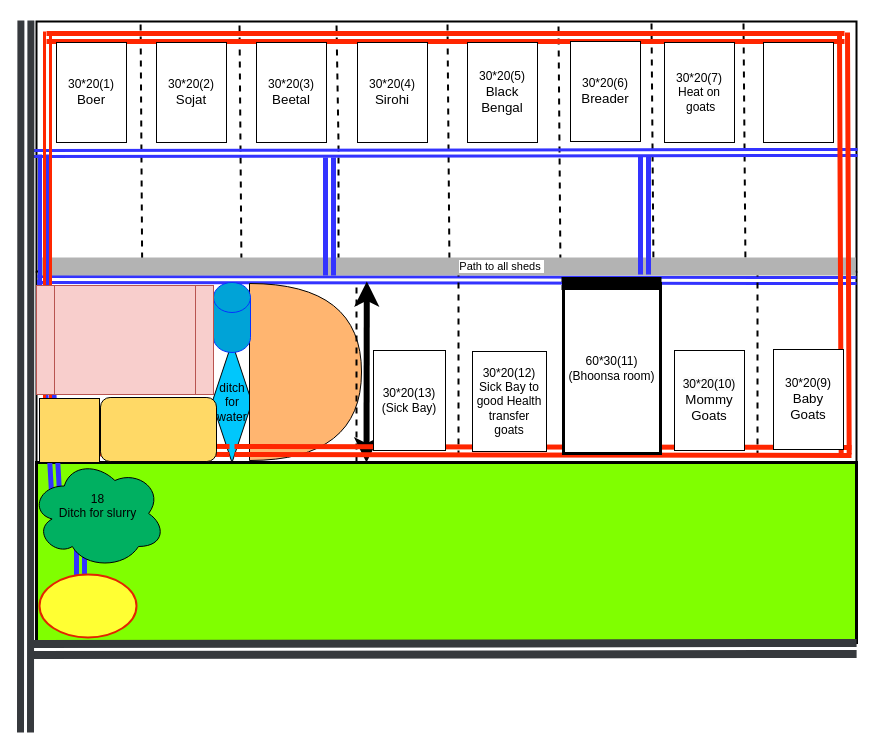
Image size: 883x753. Some labels were removed from this diagram. The box of each missing label's shape, as (x1, y1, x2, y2) in pixels:
14 Feed making Area + 1st floor Office + Kitchen and toilet + Medcine Room: (248, 282, 362, 460)
16 Labour room + Kitchen: (100, 396, 216, 462)
17 Toilet Bathroom: (38, 398, 100, 462)
19 Gobar gas plant: (38, 573, 137, 638)
30*20(8) Pregnant Goats: (762, 42, 834, 142)
Fodder Make boundary wire Boundary: (34, 460, 858, 644)
Parking + Loading: (36, 284, 214, 394)
Water Boring: (212, 282, 250, 352)
